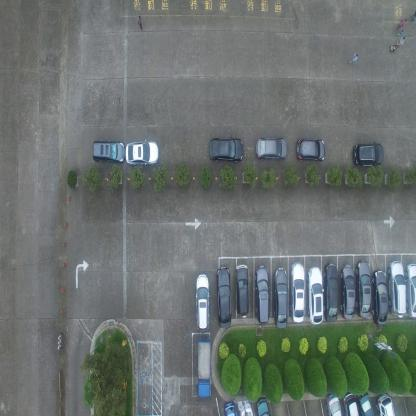car: (306, 266, 324, 326), (388, 260, 406, 320), (215, 266, 232, 329), (196, 336, 212, 399), (206, 136, 244, 162), (253, 264, 269, 324), (194, 272, 210, 331), (372, 270, 388, 327), (125, 140, 160, 166), (273, 266, 287, 330), (255, 135, 288, 162), (291, 262, 305, 325), (357, 258, 371, 319), (92, 140, 127, 164), (341, 263, 356, 319), (325, 263, 339, 322), (296, 136, 326, 163), (352, 141, 384, 166), (234, 264, 248, 320), (406, 260, 415, 320), (376, 390, 396, 415), (357, 389, 374, 415), (325, 392, 342, 415), (344, 392, 359, 415), (240, 398, 254, 416), (256, 398, 270, 416), (223, 400, 237, 416)
